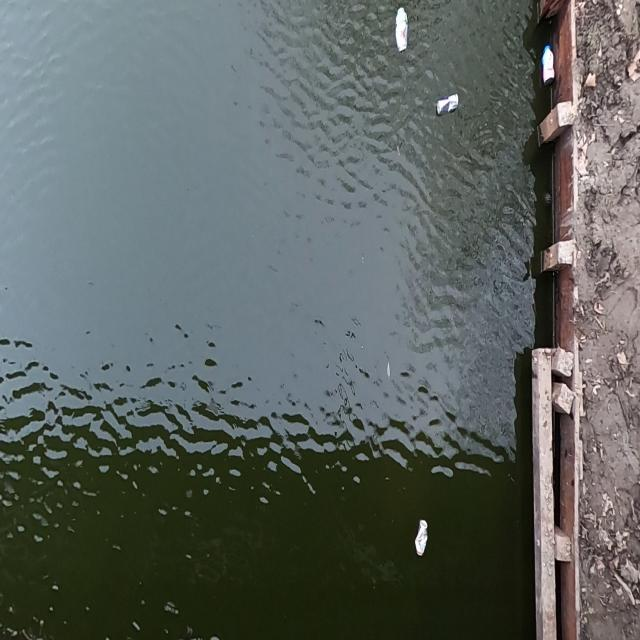Bouteille plastique: (538, 39, 557, 90)
Non plastique: (392, 4, 415, 65), (414, 514, 434, 564), (436, 90, 462, 122)
